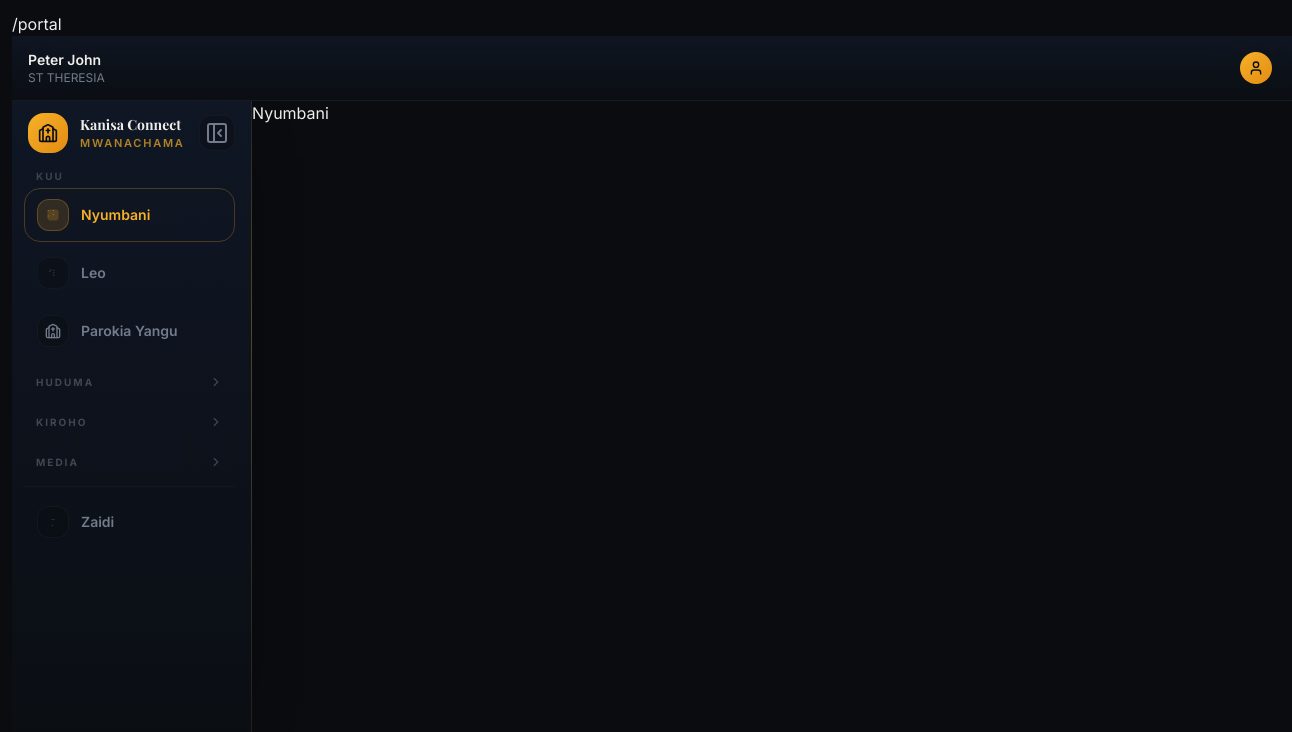
it: multi-church Slice 3 member church switcher › hides the switch action for a single-church member and still displays the current church
Step 1. Click the button named "Fungua menyu ya akaunti" → x=1256, y=68, box [1236,48,1276,88]
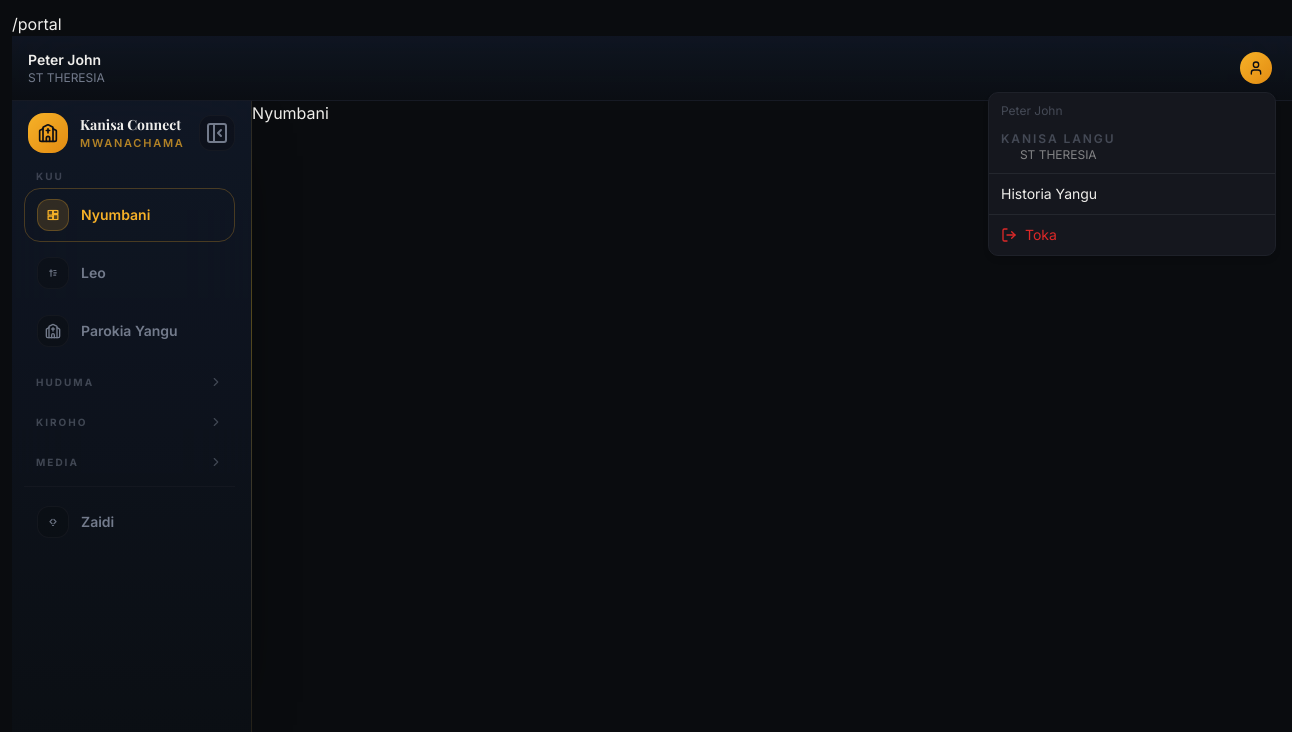
Check: the text "Kanisa Langu" is shown, box [1001,131,1116,147]
